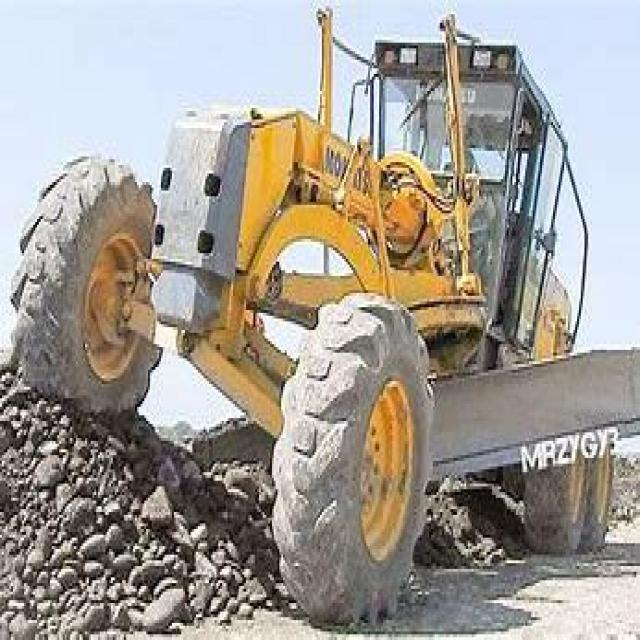Grader: (9, 3, 629, 617)
